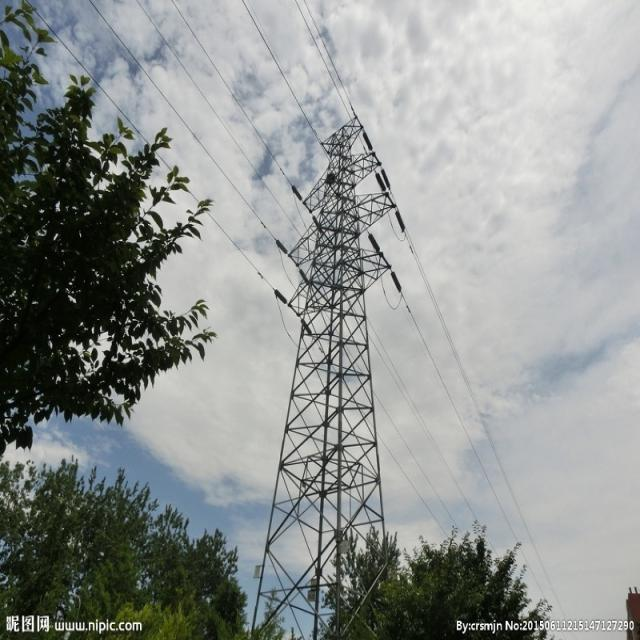non-critical vegetation: (256, 104, 406, 634)
